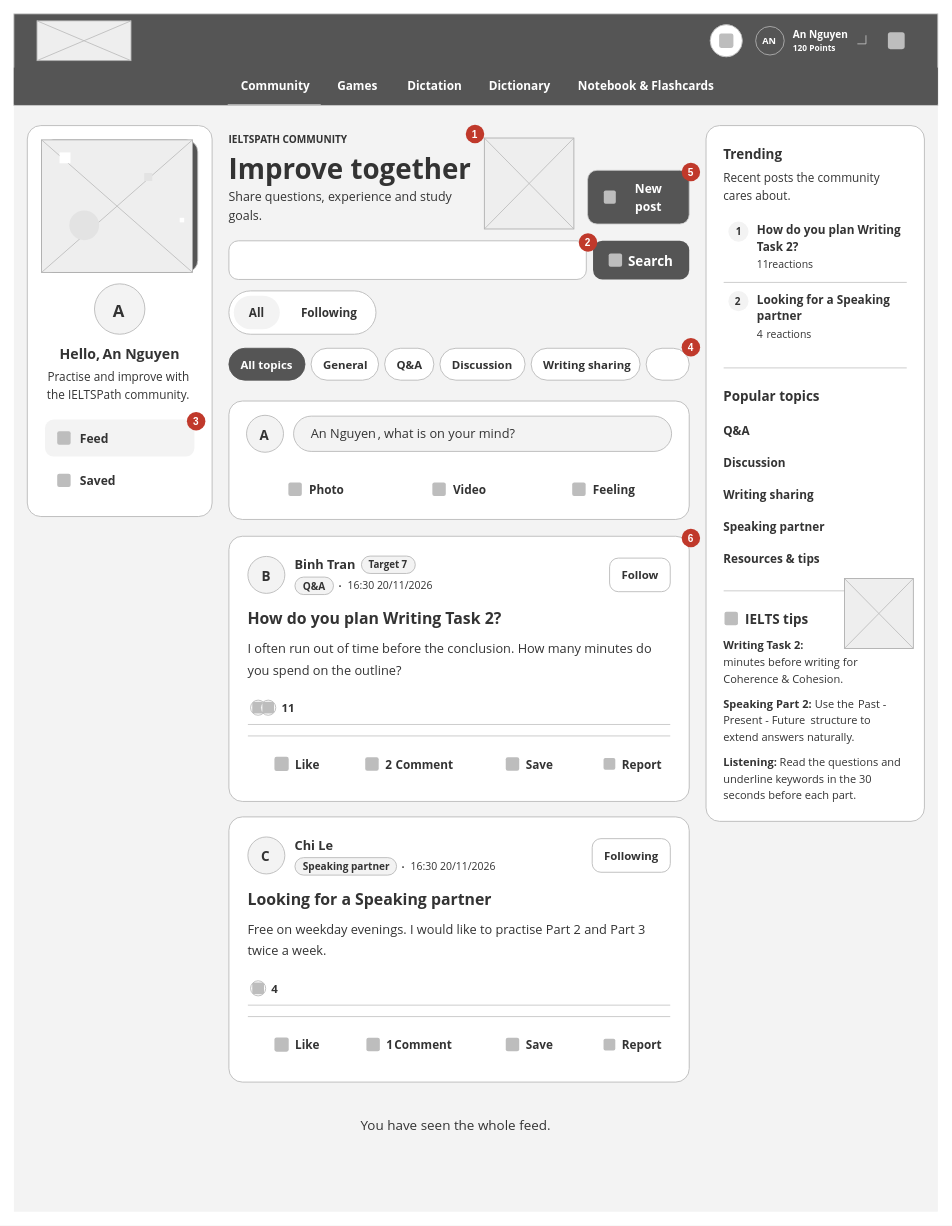
Image size: 952x1226. Some labels were removed from this diagram. The shapes that lost their labels are listed below. From the top down, each one's centre as x and y in pixels, then its label:
(407,259): Search posts in the community
(878,613): Outline for 5
